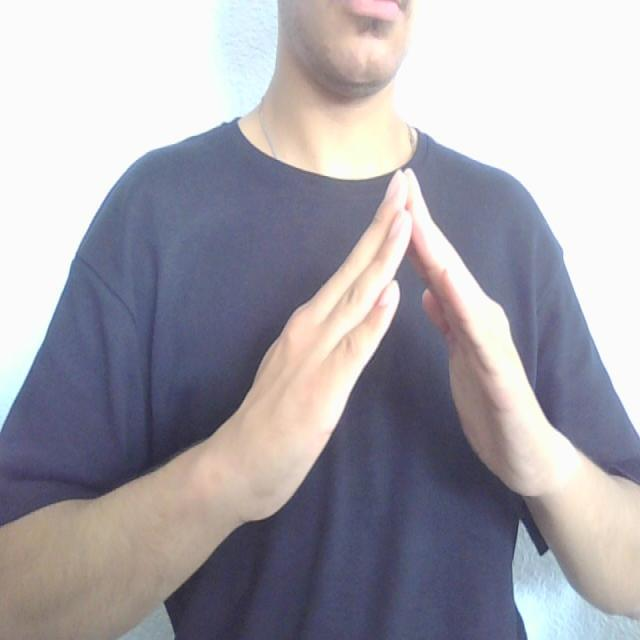Ev: (205, 166, 572, 516)
